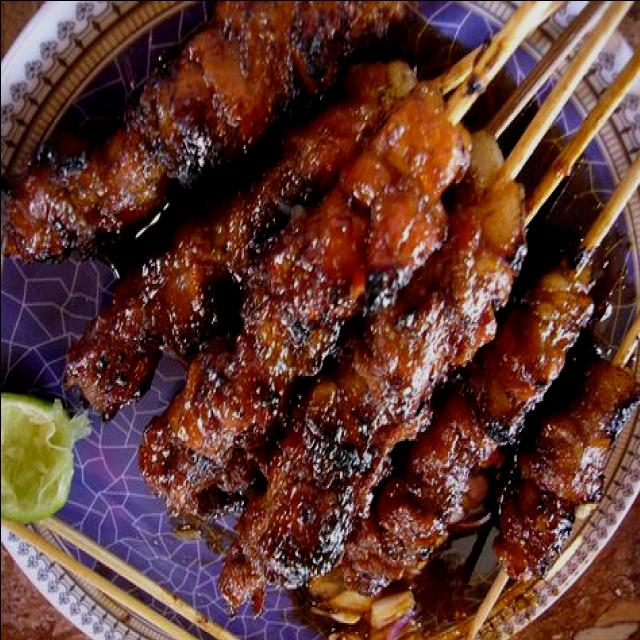sate: (0, 0, 640, 640)
